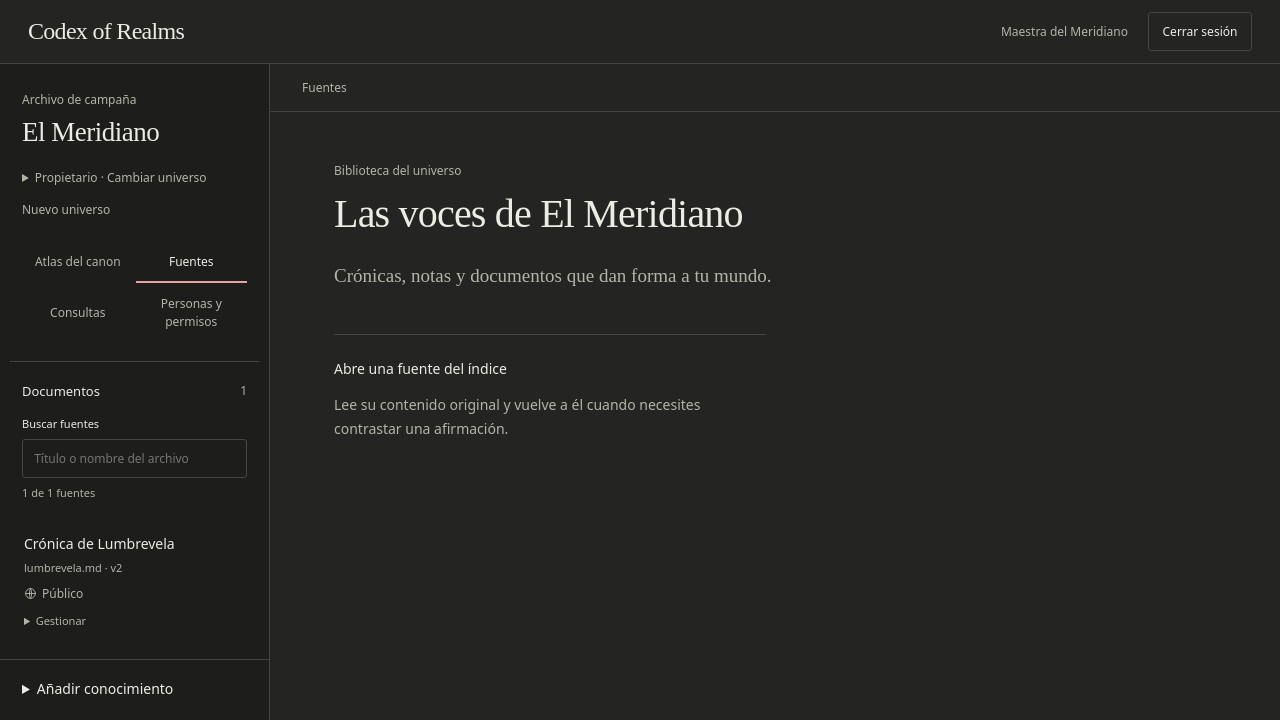
it: App › abre el atlas del canon desde la navegación principal
Expected: the text "Crónica de Lumbrevela" is shown, [24,534,175,553]
Click the link "Atlas del canon" at (78, 261), box [35,253,121,270]
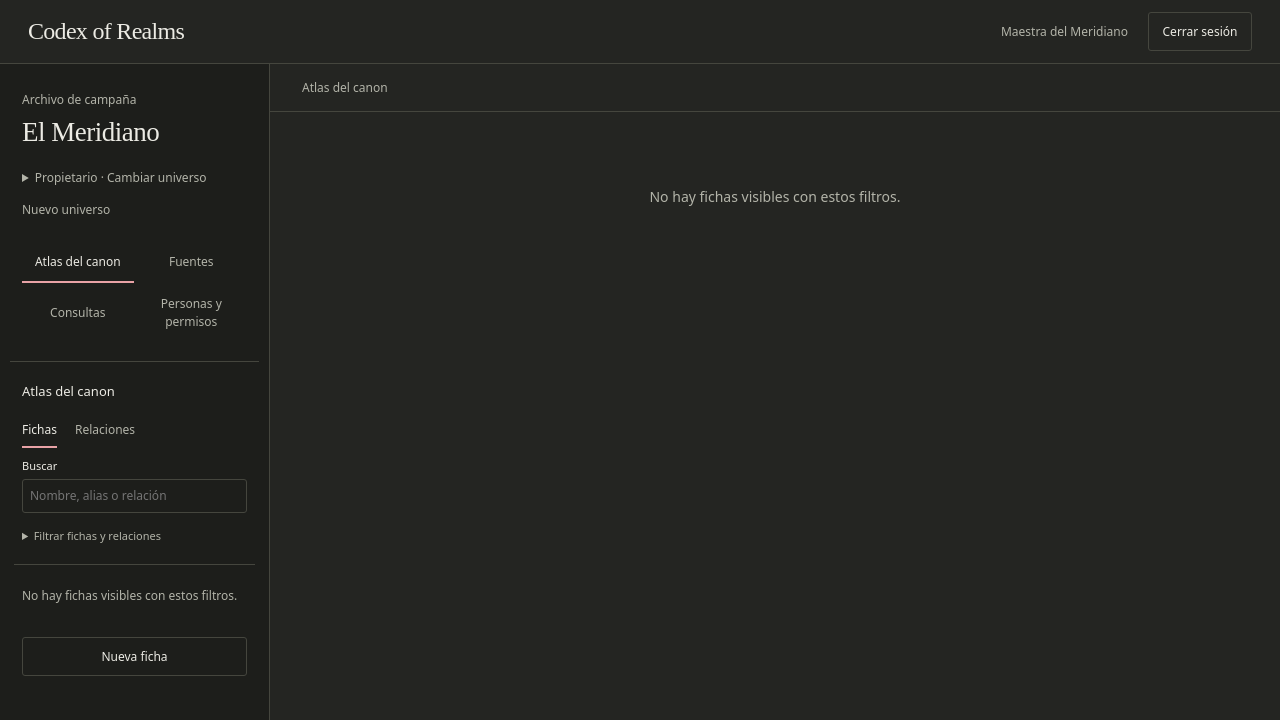
Now the heading "Atlas del canon" is shown, box [22,382,115,400]
